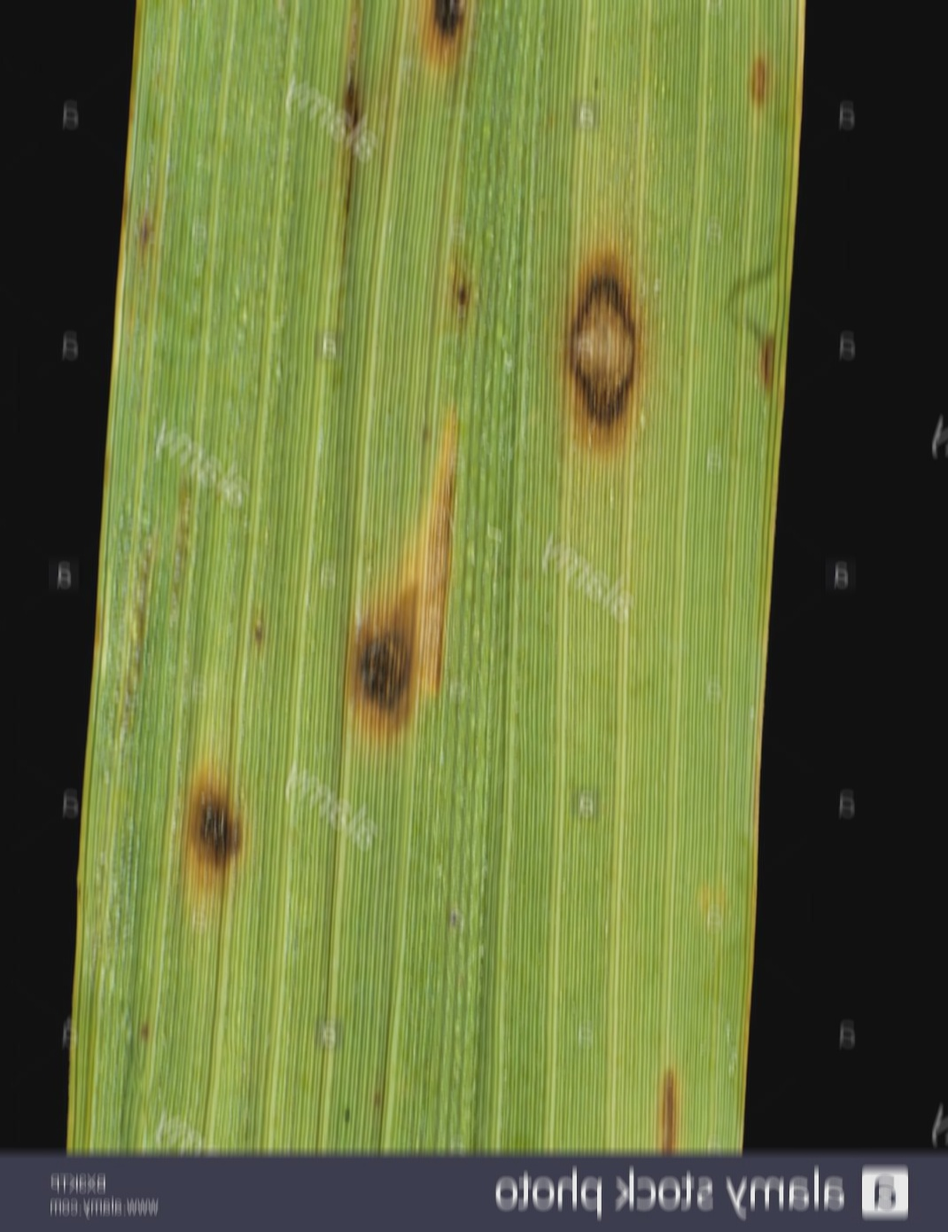Bacterial_Leaf_Blight: (326, 497, 485, 742), (530, 234, 659, 464), (170, 752, 255, 923), (392, 1, 478, 100), (626, 1049, 699, 1158), (735, 324, 787, 409), (748, 39, 784, 115), (447, 245, 480, 325)
